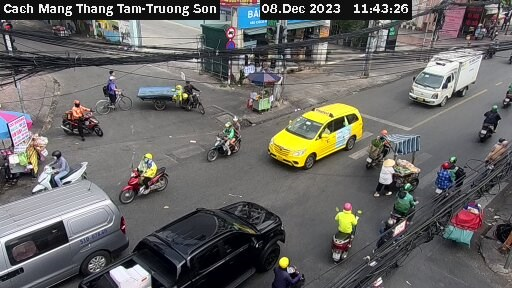car: (83, 200, 285, 287), (1, 177, 128, 288), (265, 102, 365, 167)
motorbike: (117, 150, 180, 201), (30, 148, 91, 192), (318, 208, 368, 259), (58, 97, 107, 145), (380, 190, 419, 234), (208, 119, 247, 162), (432, 159, 468, 201), (358, 127, 393, 169), (472, 108, 506, 138)
truck: (409, 47, 480, 106)
